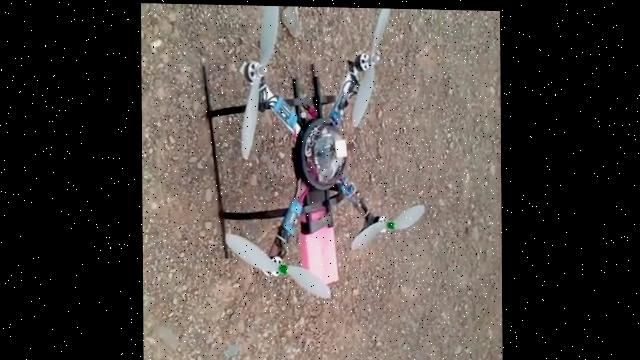drone: (198, 3, 431, 299)
